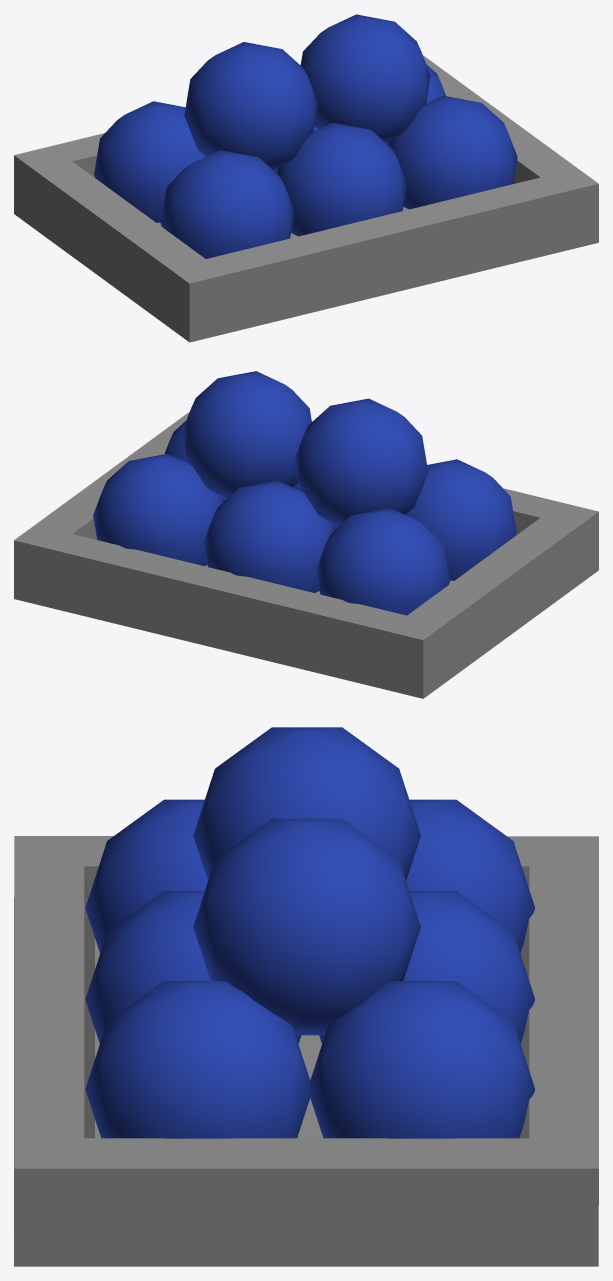
The model's file is Kernels_Palette_mm.fbx.
The picture shows the model from 3 angles, top to bottom: view 1: azimuth 30°, elevation 25°; view 2: azimuth 150°, elevation 25°; view 3: azimuth 270°, elevation 25°; orthographic projection. The views are drawn at different scales.
Parts seen in each view (by area): view 1: Kernels_Palette; view 2: Kernels_Palette; view 3: Kernels_Palette.
Boxes of the visible parts, x1,y1,x2,y2 form: Kernels_Palette: (14,14,598,342); Kernels_Palette: (14,371,598,698); Kernels_Palette: (14,727,598,1266).
Size of the model in its own units: 117 by 53.07 by 87.03.
